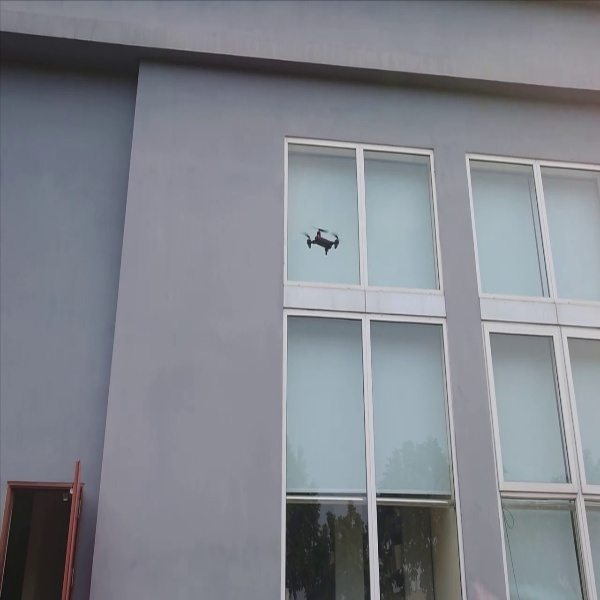drone: (296, 216, 349, 260)
